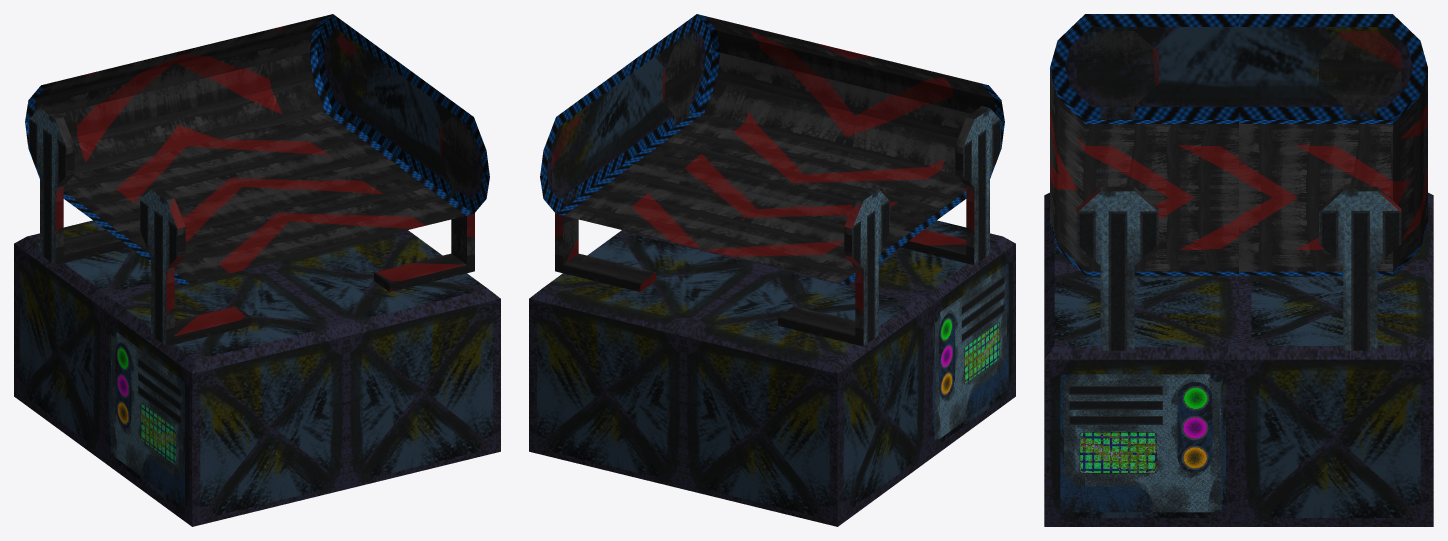
Rendered from Belt.005.fbx.
The picture shows the model from 3 angles, left to right: view 1: azimuth 30°, elevation 25°; view 2: azimuth 150°, elevation 25°; view 3: azimuth 270°, elevation 25°; orthographic projection. The views are drawn at different scales.
Parts seen in each view (by area): view 1: Belt; view 2: Belt; view 3: Belt.
Boxes of the visible parts, x1=… form: Belt: x1=14, y1=14, x2=500, y2=526; Belt: x1=529, y1=14, x2=1015, y2=526; Belt: x1=1044, y1=14, x2=1433, y2=526.
Size of the model in its own units: 2 by 2 by 2.
